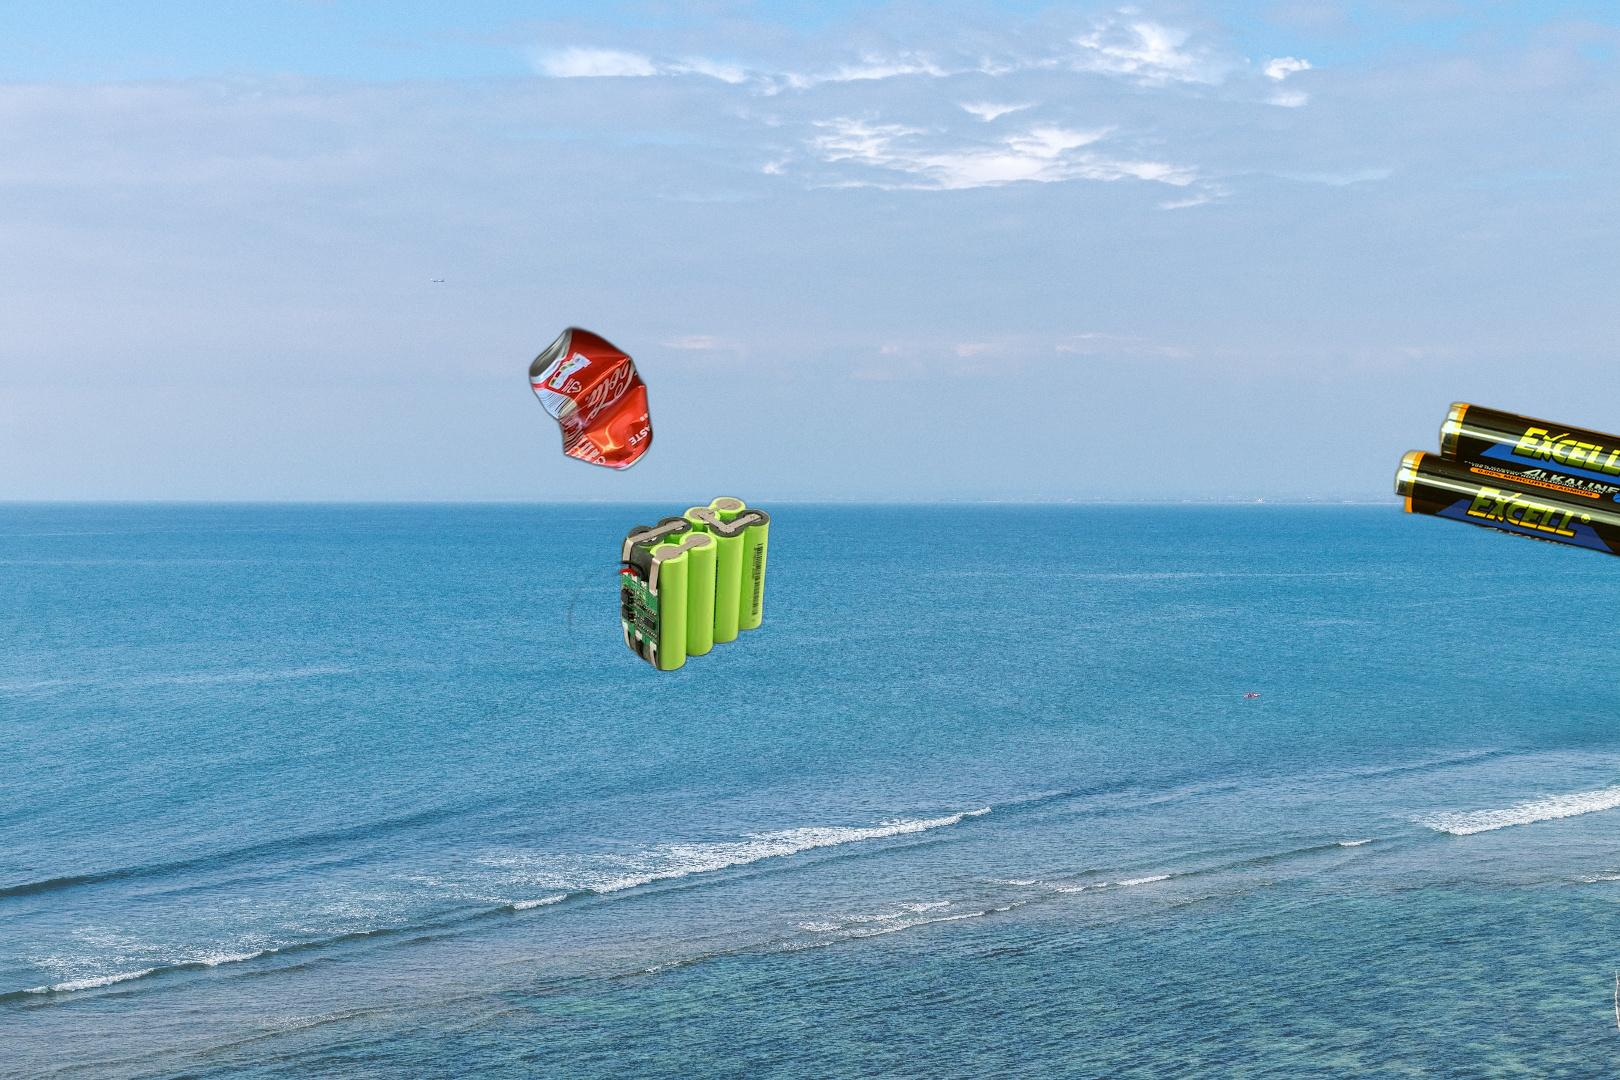battery: (1389, 399, 1620, 569), (567, 494, 773, 683)
metal-cans: (524, 321, 658, 477)
